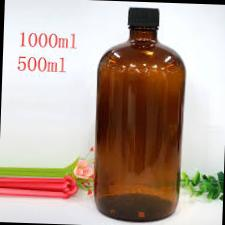glass: (81, 0, 192, 225)
